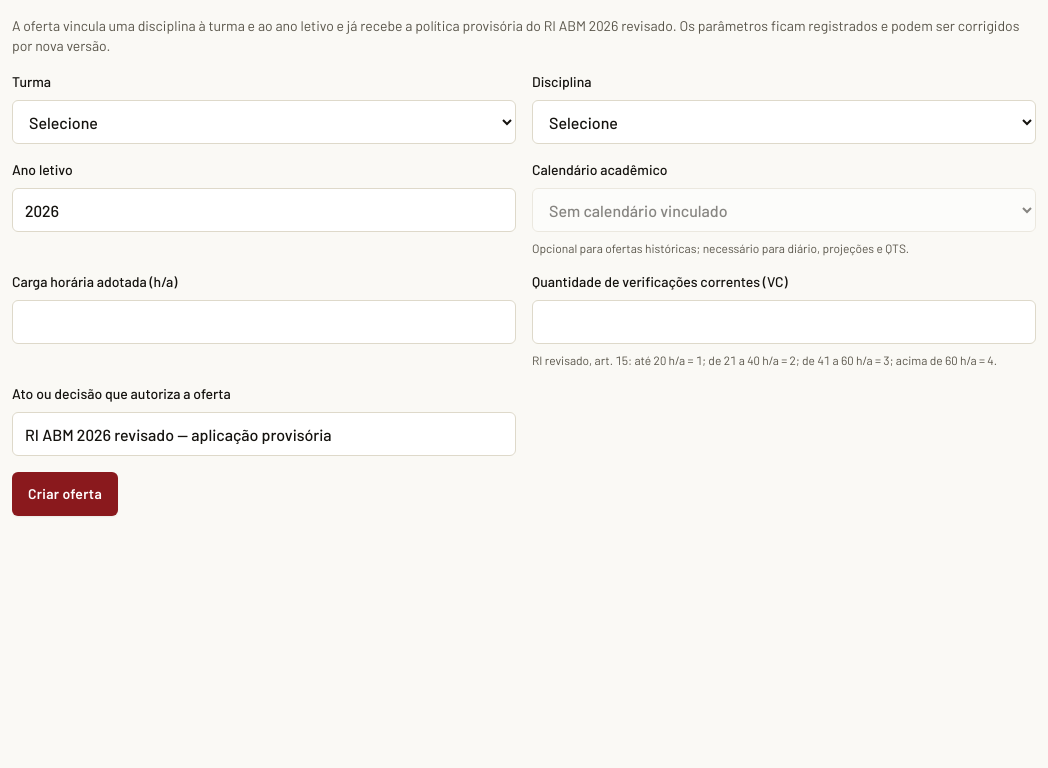
Gestão acadêmica: decisões e lançamento › sugere quatro VCs para disciplina acima de sessenta horas
The width and height of the screenshot is (1048, 768).
Select "CFO I · Treinamento Físico Militar I" in the dropdown labelled "Disciplina" at (784, 122), box [532, 100, 1036, 144]
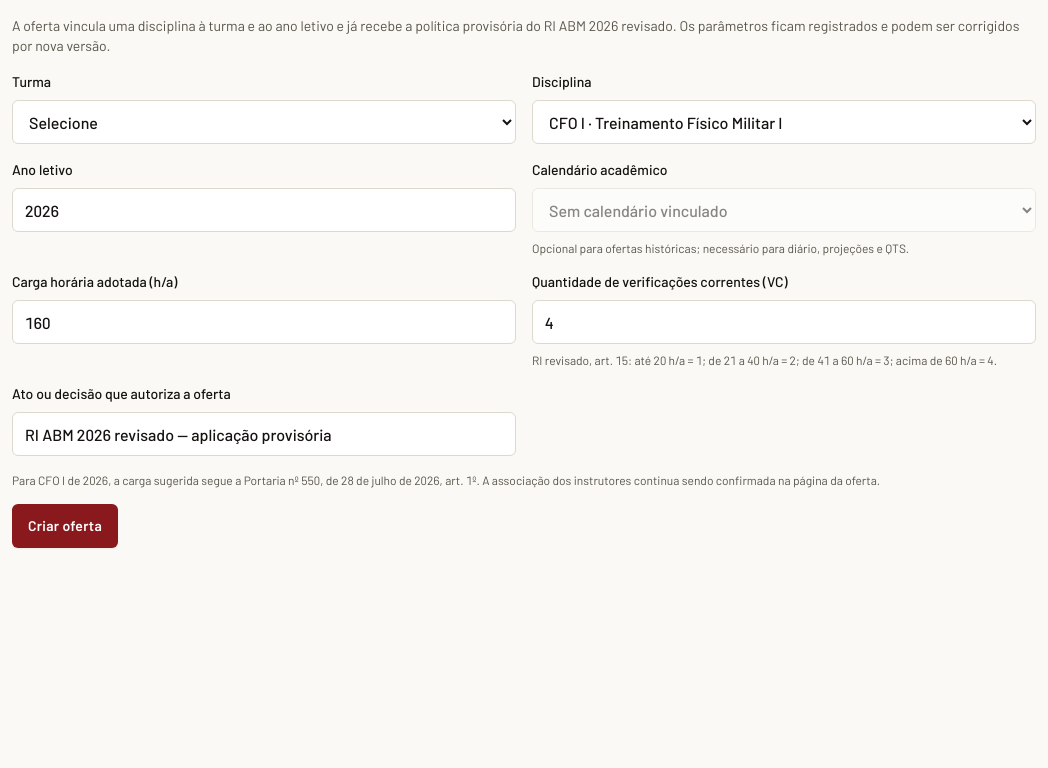
Now the number field labelled "Quantidade de verificações" holds "4", box [532, 300, 1036, 344]
